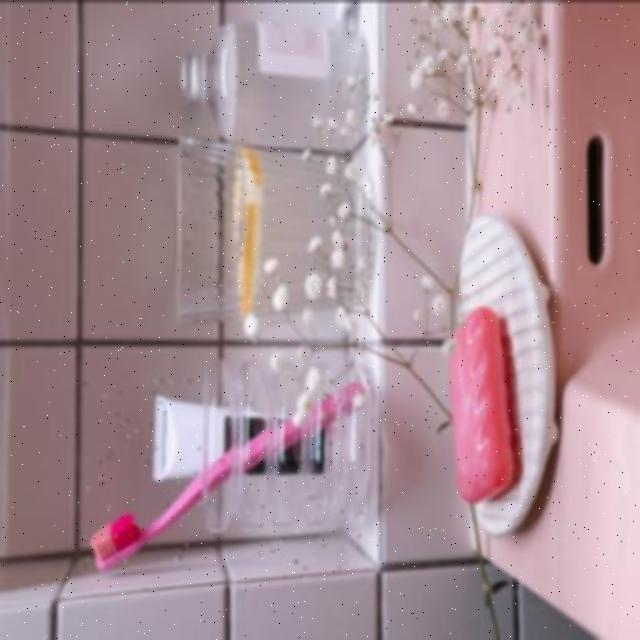toothbrush: (84, 377, 370, 577)
